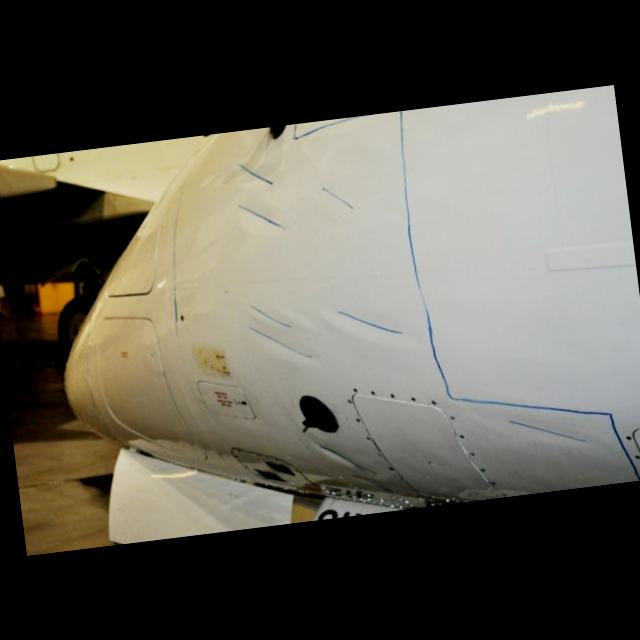dent: (316, 294, 412, 356), (238, 288, 315, 365), (504, 408, 587, 458), (312, 434, 376, 488), (232, 192, 290, 240), (233, 144, 280, 187), (314, 179, 358, 219)
